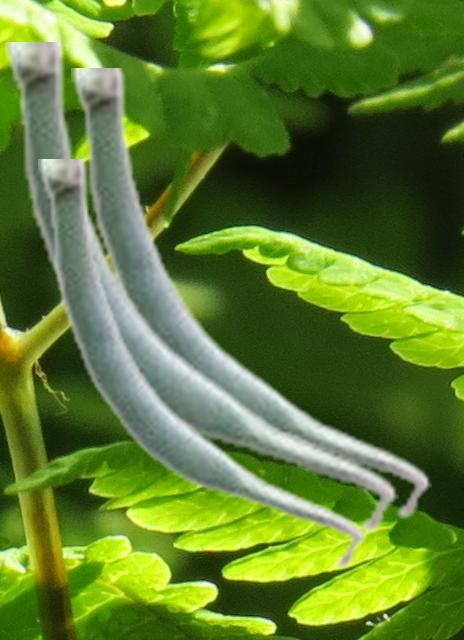french_bean: (5, 42, 397, 536), (73, 68, 430, 521), (38, 159, 365, 571)
